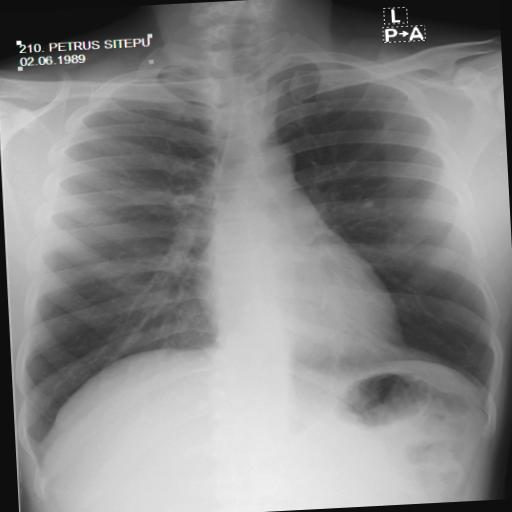normal: (0, 24, 512, 468)
